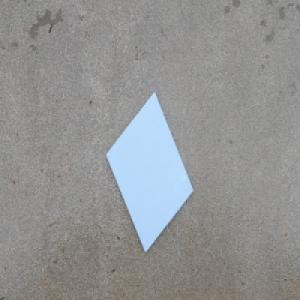PaintChip: (104, 91, 194, 255)
